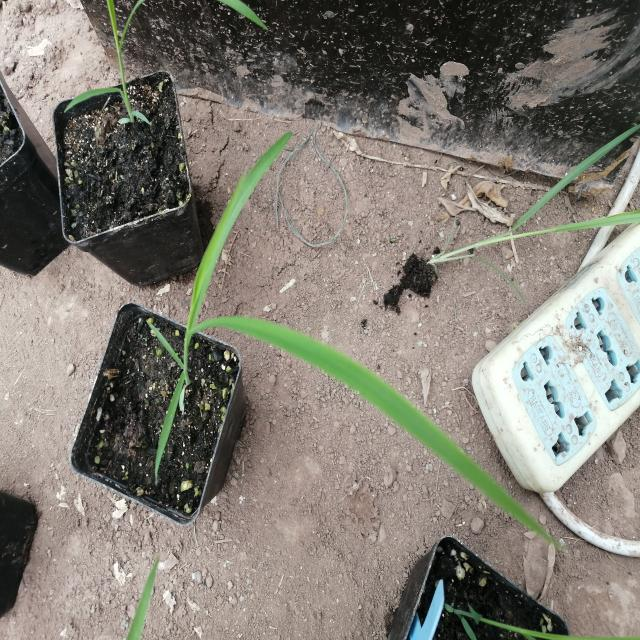crabgrass: (141, 178, 468, 482)
